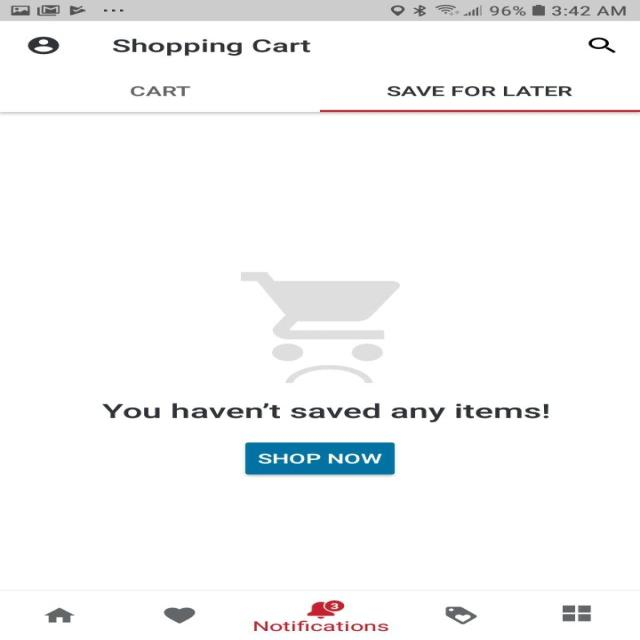Icon: (306, 600, 344, 619), (444, 606, 478, 624), (27, 36, 59, 55), (163, 606, 196, 624), (562, 605, 592, 622), (44, 606, 74, 622), (588, 37, 616, 53)
Image: (240, 272, 400, 384)
Text: (101, 402, 548, 422), (112, 38, 310, 56), (387, 85, 572, 96), (254, 620, 388, 631), (130, 85, 190, 96)
TextButton: (244, 442, 394, 475)
